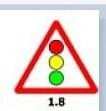road_sign: (11, 19, 99, 96)
